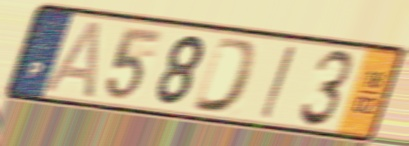3: (298, 47, 356, 130)
5: (104, 24, 167, 102)
8: (153, 32, 206, 108)
A: (40, 18, 106, 101)
D: (188, 34, 261, 117)
I: (257, 42, 299, 121)
